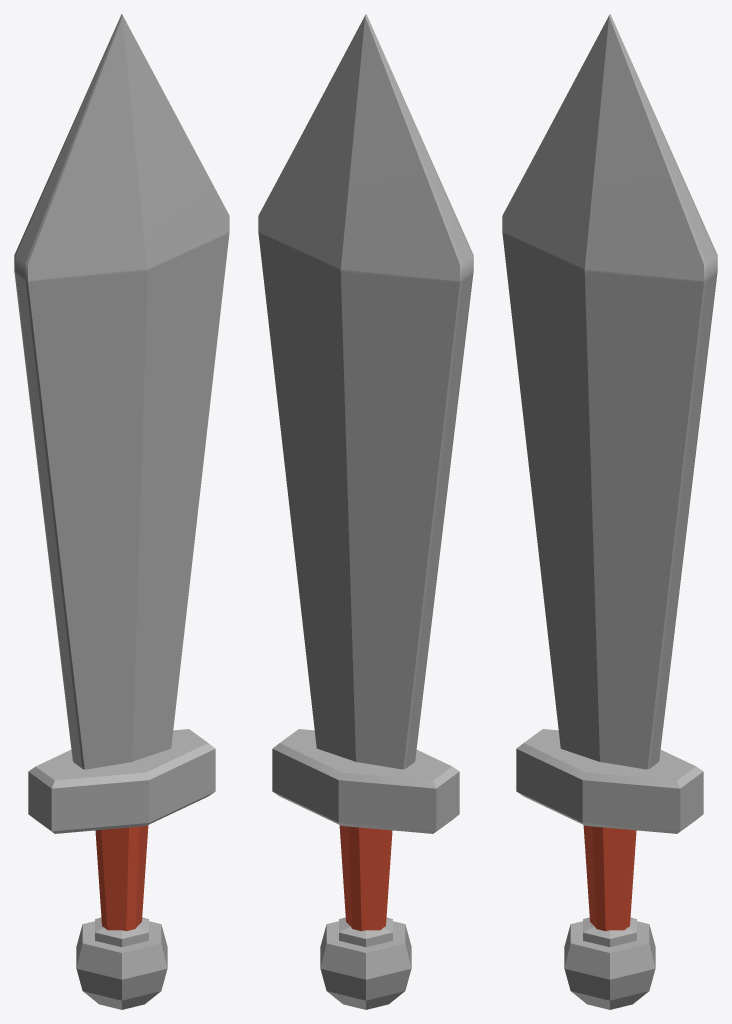
The model's file is sword1.fbx.
The picture shows the model from 3 angles, left to right: view 1: azimuth 30°, elevation 25°; view 2: azimuth 150°, elevation 25°; view 3: azimuth 330°, elevation 25°; orthographic projection.
Visible parts, largest first — view 1: blade, base, end, stick; view 2: blade, base, end, stick; view 3: blade, base, end, stick.
Part boxes in pixels (x1,y1,x2,y2): blade: (14, 14, 229, 769); base: (28, 729, 215, 833); end: (76, 917, 167, 1009); stick: (95, 825, 148, 931); blade: (258, 14, 473, 769); base: (272, 729, 459, 833); end: (320, 917, 411, 1009); stick: (339, 825, 392, 931); blade: (502, 14, 717, 769); base: (516, 729, 703, 833); end: (564, 917, 655, 1009); stick: (583, 825, 636, 931).
Bounding box in the file's own units: 11.92 × 55.61 × 5.57.
